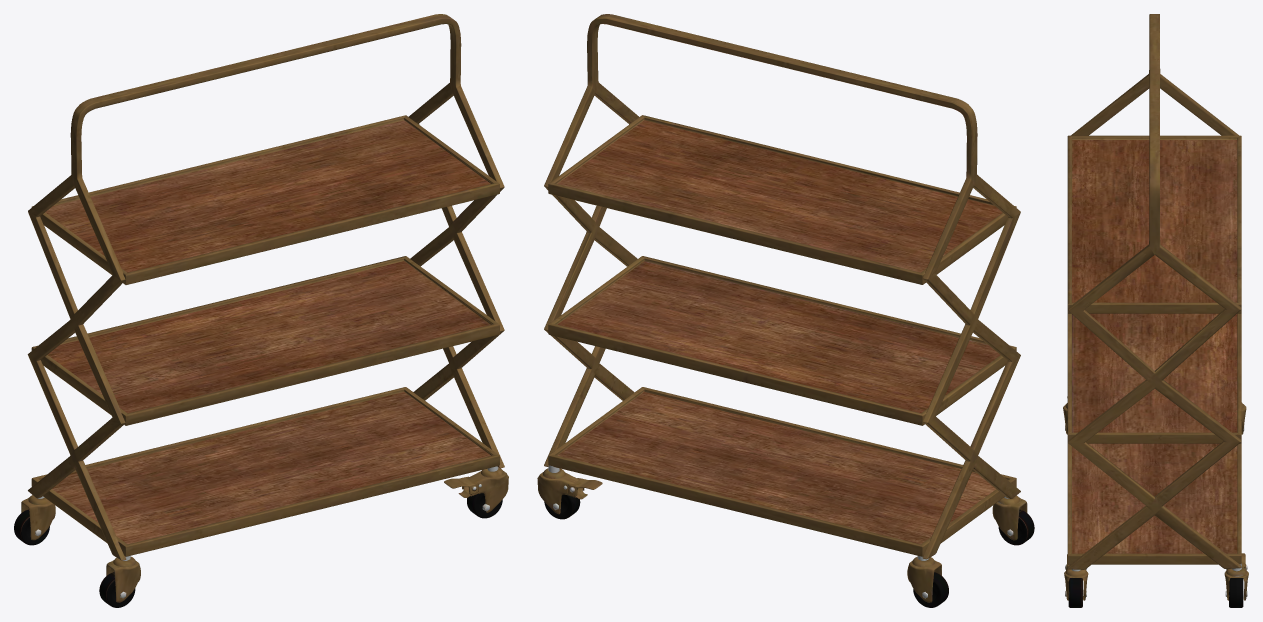
File: kitchen_island_abo_B075YQ46MP.glb
3 renders of one model, left to right at view 1: azimuth 30°, elevation 25°; view 2: azimuth 150°, elevation 25°; view 3: azimuth 270°, elevation 25°, orthographic. The views are drawn at different scales.
Visible parts, largest first — view 1: RootNode; view 2: RootNode; view 3: RootNode.
Boxes of the visible parts, bbox=[...] form: RootNode: bbox=[14, 14, 508, 607]; RootNode: bbox=[537, 14, 1034, 607]; RootNode: bbox=[1063, 14, 1248, 607].
Size of the model in its own units: 0.7227 by 0.8047 by 0.3128.
Materials: 1 (1 with a texture image).
